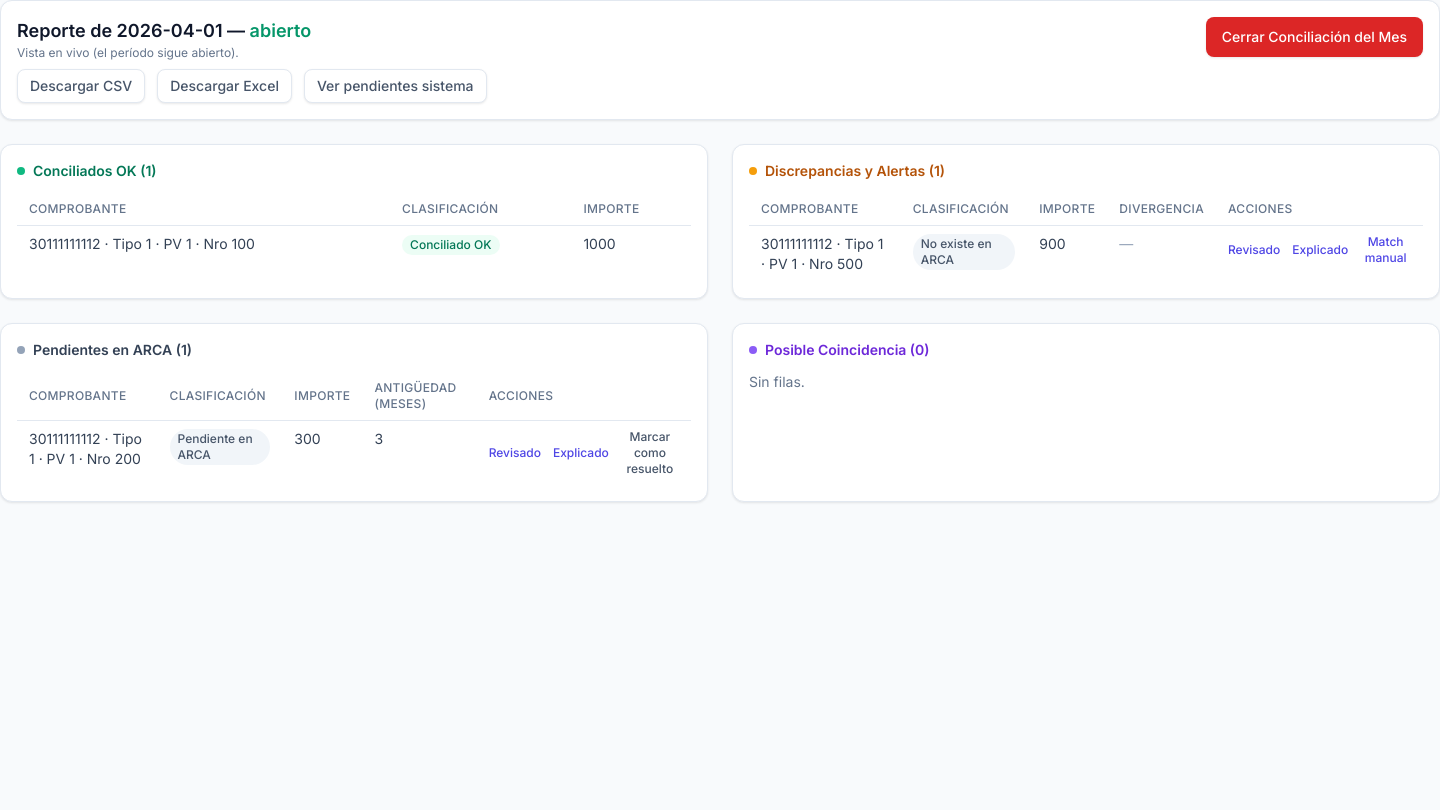
Test: T31: PeriodoReportViewer › 2026-10-12 ("Match manual" para no_existe_en_arca) › opens MatchManualModal with this row's sistema id, the periodoId, and the report's tenant_id
Click the button "Match manual".
click(1386, 250)  # box [1360,234,1411,266]
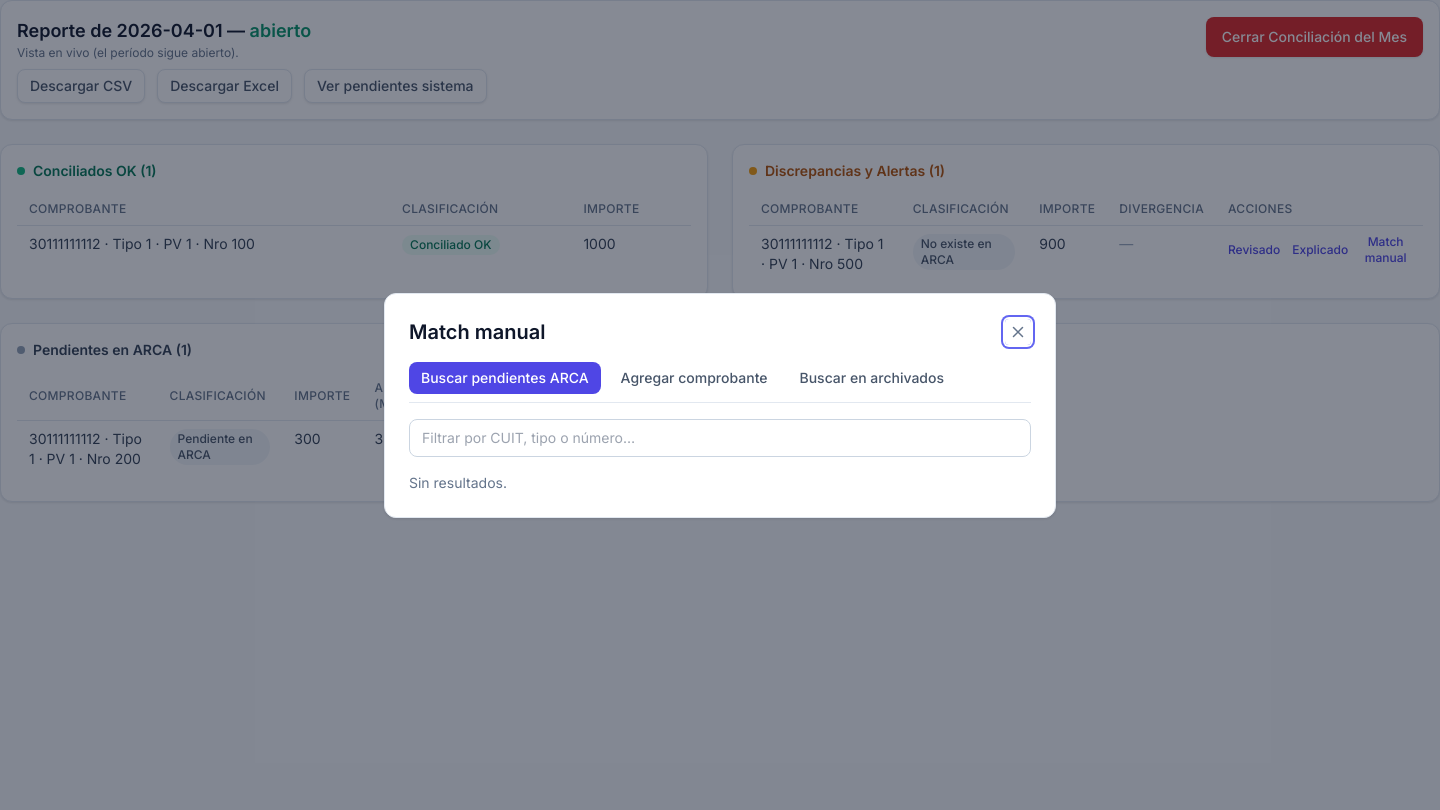
Result: the dialog "Match manual" is shown at [384,292,1056,518]
